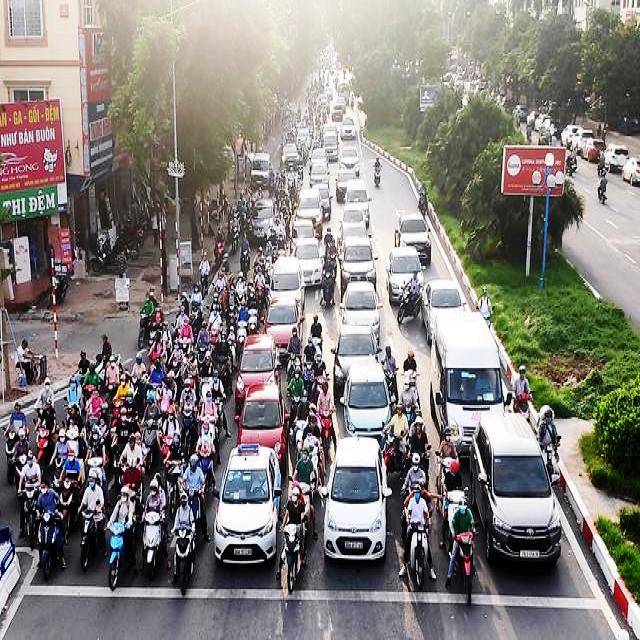Car: (476, 420, 549, 567), (426, 311, 504, 440), (318, 434, 392, 564), (212, 442, 282, 567), (233, 382, 288, 474), (338, 358, 395, 438), (330, 323, 382, 400), (234, 332, 281, 414), (420, 278, 468, 345), (339, 280, 383, 342), (263, 295, 303, 360), (339, 235, 378, 298), (393, 210, 431, 268), (385, 246, 423, 303), (269, 255, 305, 314), (291, 237, 323, 286), (600, 142, 629, 173), (298, 187, 324, 219), (346, 182, 368, 218), (622, 154, 639, 186), (339, 118, 356, 139)
